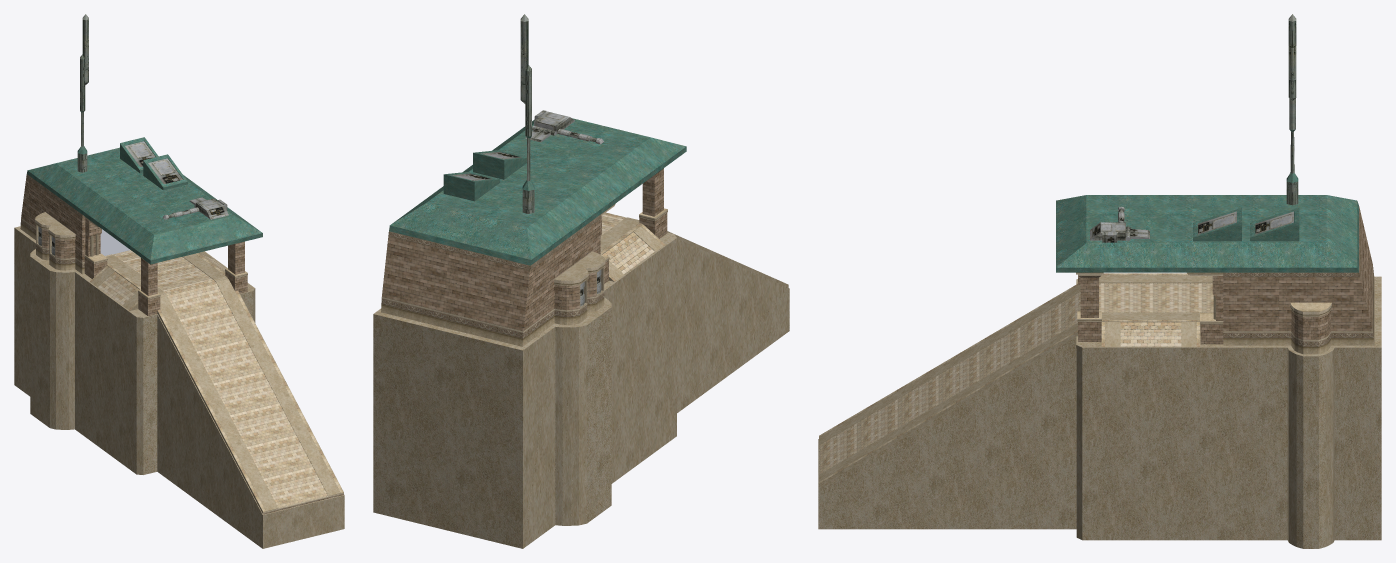
The model's file is ply_nboo_garage_s01_l0.fbx.
3 views of the same model, side by side, from view 1: azimuth 30°, elevation 25°; view 2: azimuth 150°, elevation 25°; view 3: azimuth 270°, elevation 25° (orthographic). The views are drawn at different scales.
Visible parts, largest first — view 1: mesh_node; view 2: mesh_node; view 3: mesh_node.
Boxes of the visible parts, x1,y1,x2,y2 form: mesh_node: (14, 14, 344, 548); mesh_node: (373, 14, 789, 548); mesh_node: (818, 14, 1381, 548).
Bounding box in the file's own units: 12.1 × 29.87 × 32.
